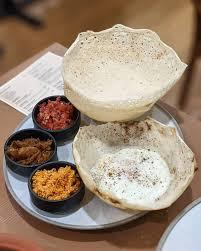Hoppers: (68, 17, 190, 115), (79, 116, 197, 213)
Lunu sambol: (31, 90, 76, 134)
Pol Sambol: (26, 164, 81, 214)
